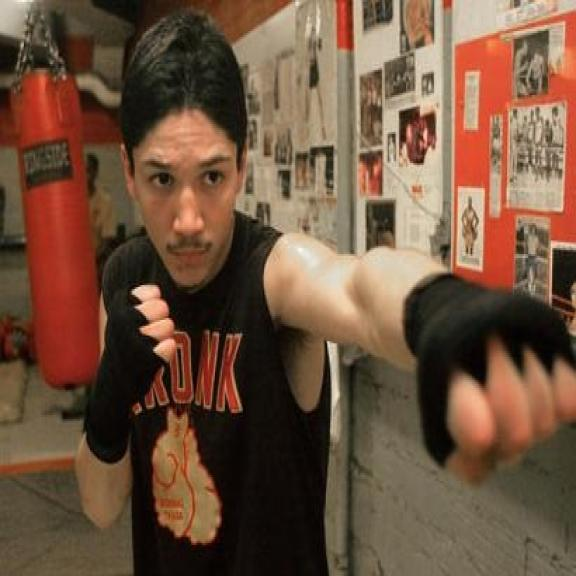face: (119, 98, 250, 292)
